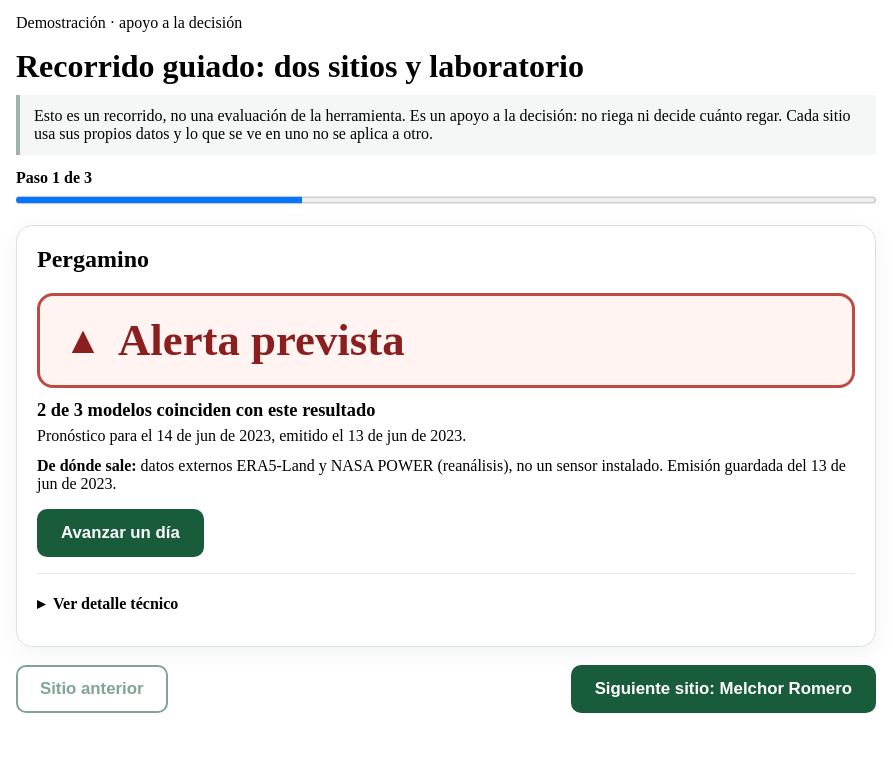
Test: Pergamino y Melchor Romero › reveals the observed value after advancing and says whether moisture was low
Expected: the text "Alerta prevista" is shown, x1=118 y1=316 x2=404 y2=365
What coordinates should you click on to do the following:
click the button "Avanzar un día"
I would click on:
 (120, 533)
Its box is x1=37 y1=509 x2=204 y2=557.
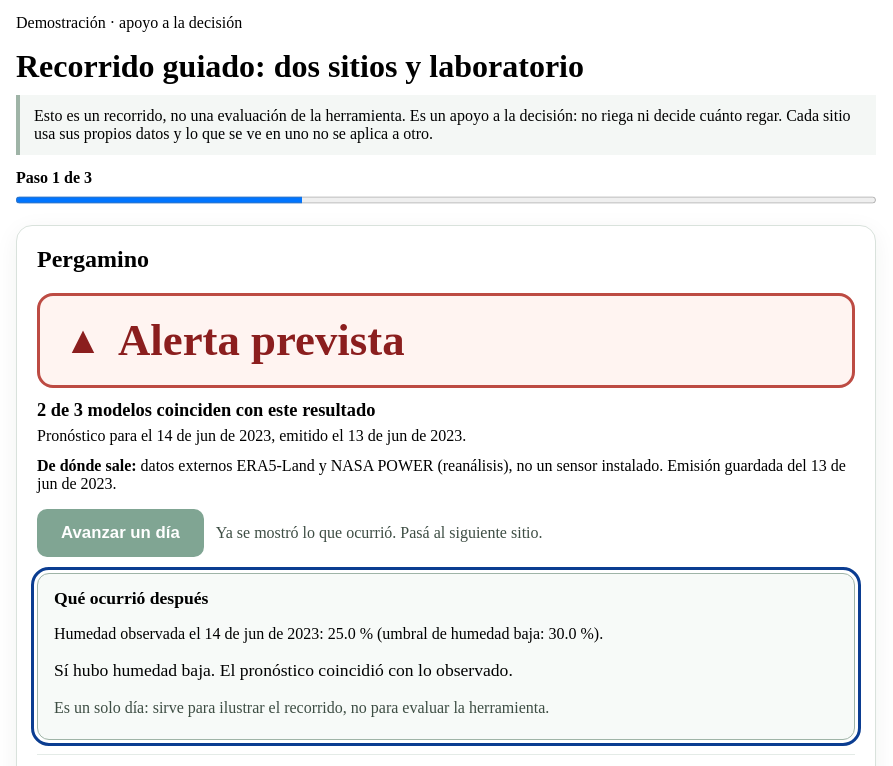
Expected: the element "Qué ocurrió después" shows "sí hubo humedad baja", x1=54 y1=660 x2=215 y2=680
Expected: the element "Qué ocurrió después" shows "el pronóstico coincidió", x1=215 y1=660 x2=513 y2=680
